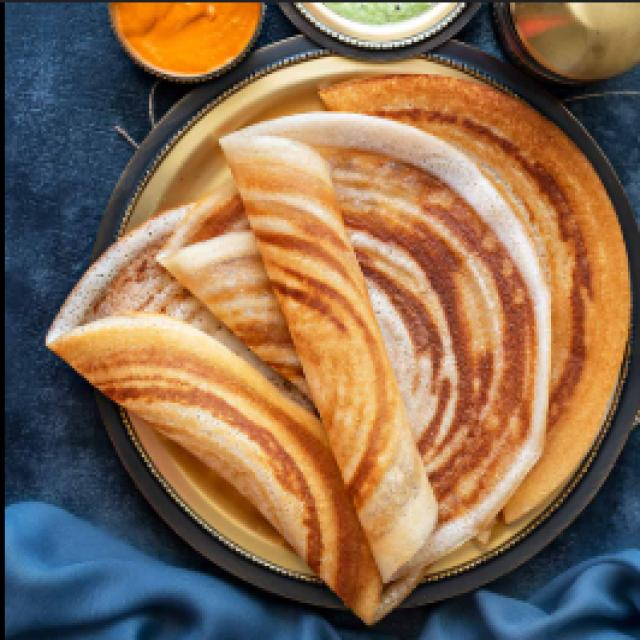dosa: (111, 111, 592, 640)
